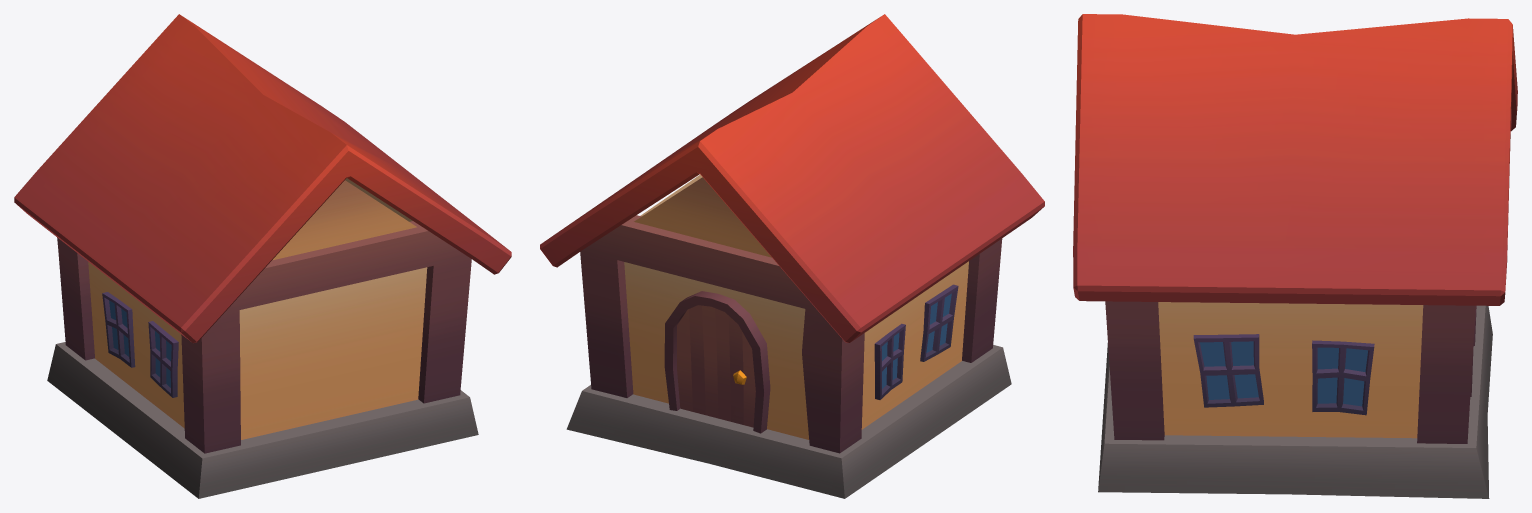
Rendered from house.gltf.
3 renders of one model, left to right at view 1: azimuth 30°, elevation 25°; view 2: azimuth 150°, elevation 25°; view 3: azimuth 270°, elevation 25°, orthographic. The views are drawn at different scales.
Parts seen in each view (by area): view 1: house; view 2: house; view 3: house.
Boxes of the visible parts, left/top/right/bottom form: house: left=14, top=14, right=511, bottom=498; house: left=540, top=14, right=1044, bottom=498; house: left=1073, top=14, right=1517, bottom=498.
Size of the model in its own units: 1.01 by 0.9515 by 0.9668.
Materials: 1 (1 with a texture image).
